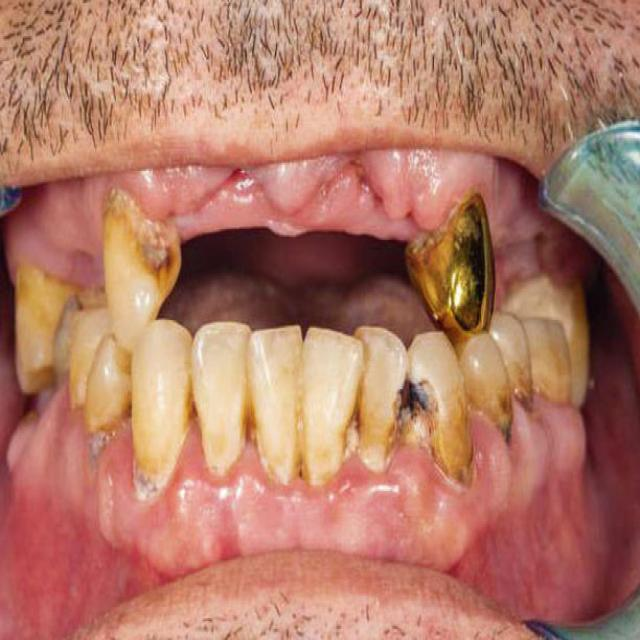caries: (388, 376, 445, 454), (80, 421, 112, 484), (491, 384, 521, 450), (149, 241, 179, 292), (513, 361, 539, 419)
